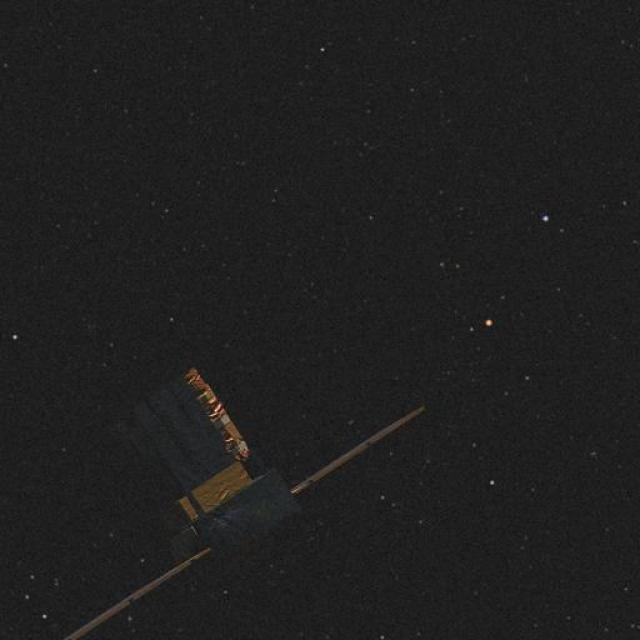soho: (109, 342, 330, 620)
